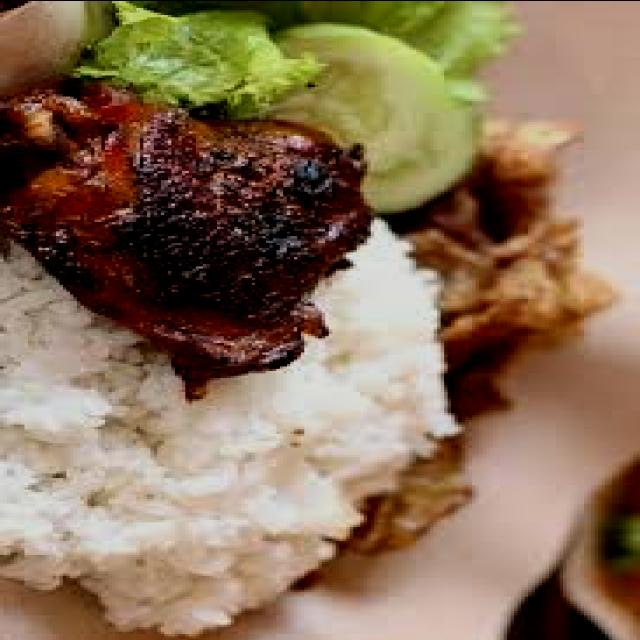ayam bakar: (0, 70, 374, 396)
nasi: (0, 216, 465, 633)
